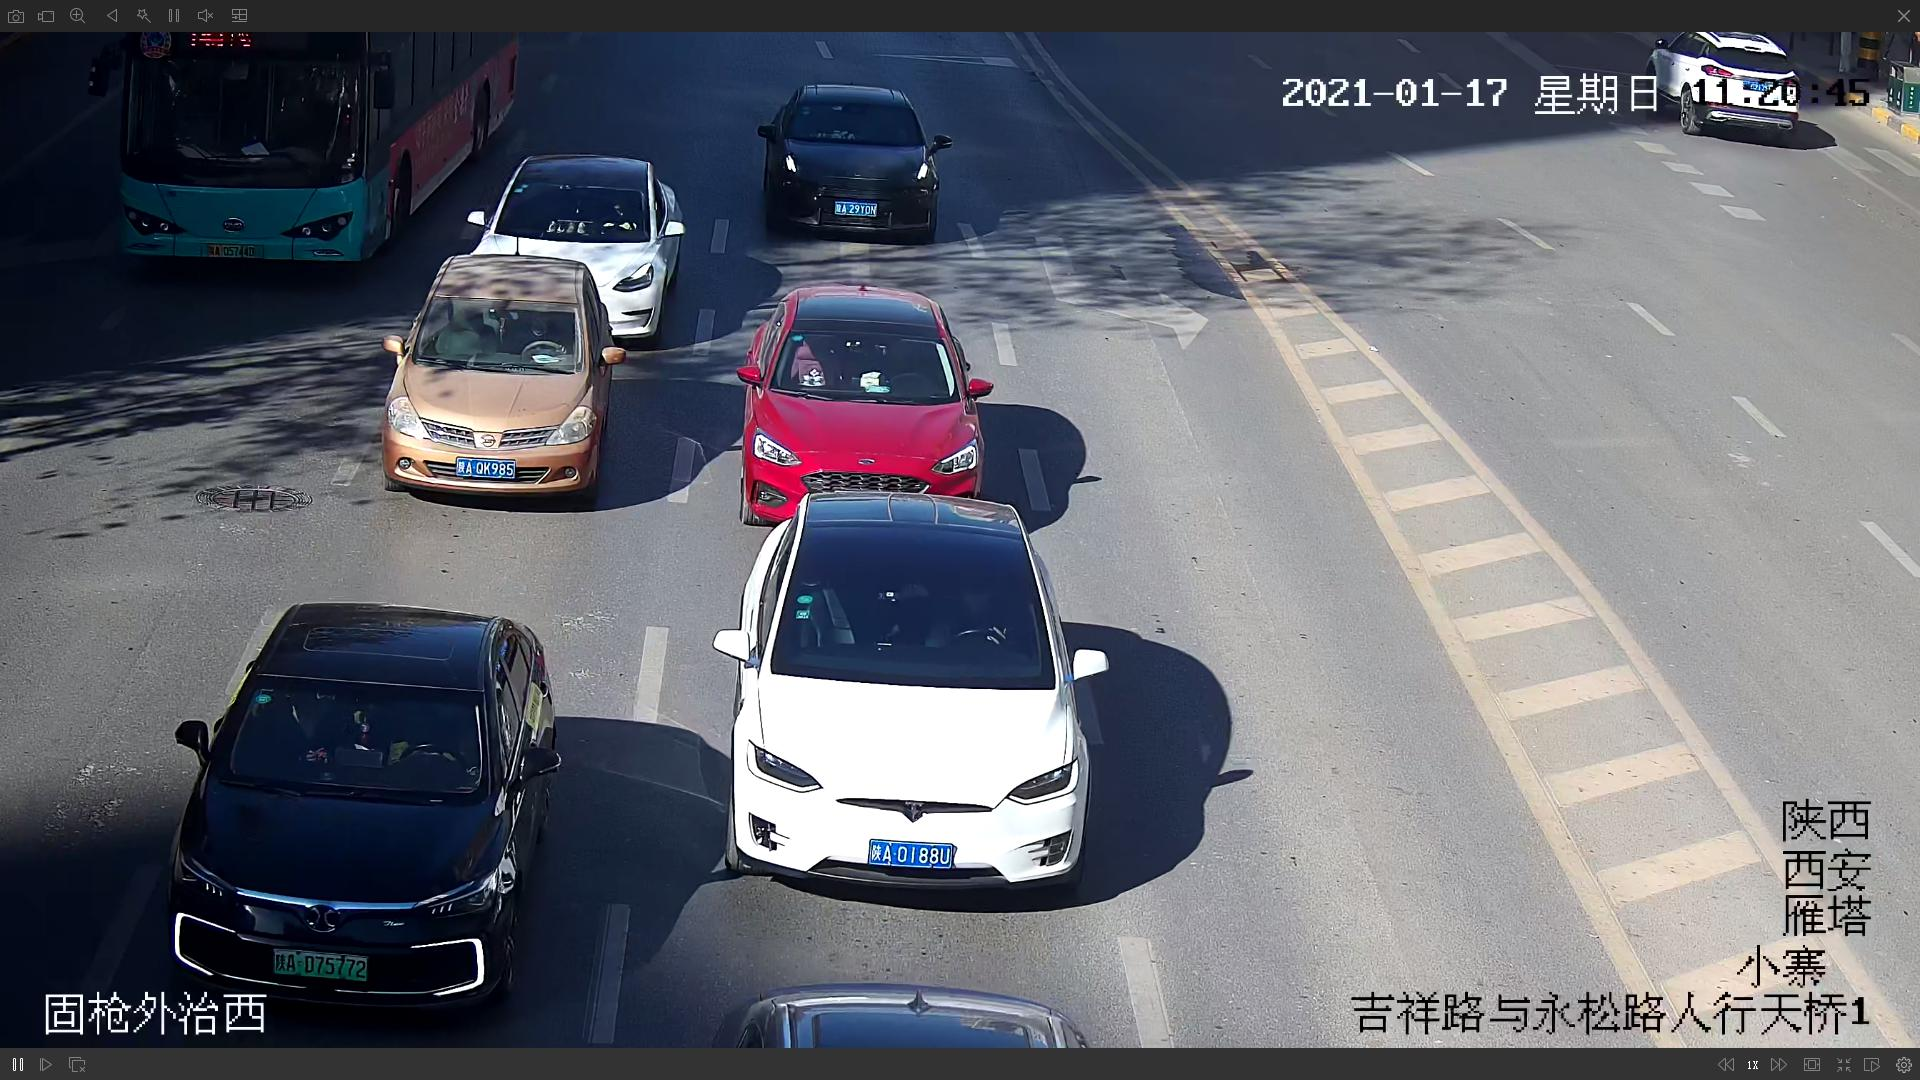black: (160, 597, 563, 1031)
brown: (372, 255, 628, 516)
cyan: (107, 32, 518, 260)
red: (727, 284, 988, 506)
white: (712, 483, 1106, 910)
